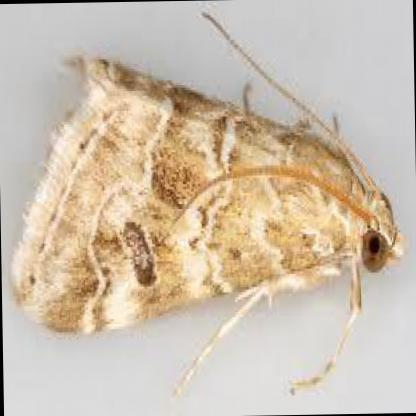Hellula undalis: (8, 7, 405, 402)
